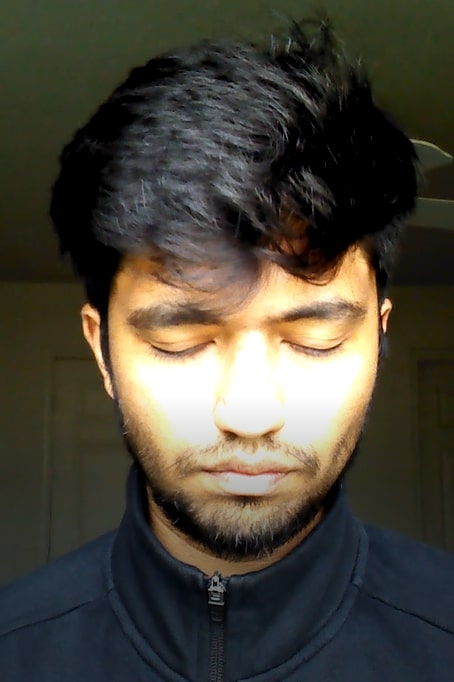Sleeping: (114, 297, 387, 395)
